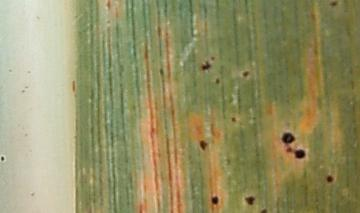tarspot: (282, 133, 295, 143), (293, 148, 306, 158), (245, 195, 255, 206), (202, 61, 211, 72), (211, 195, 219, 207), (285, 143, 292, 154), (242, 69, 250, 78), (200, 140, 207, 150), (327, 175, 334, 184), (329, 1, 338, 7), (209, 54, 216, 61), (261, 206, 268, 213), (231, 116, 237, 123), (215, 78, 221, 84)
